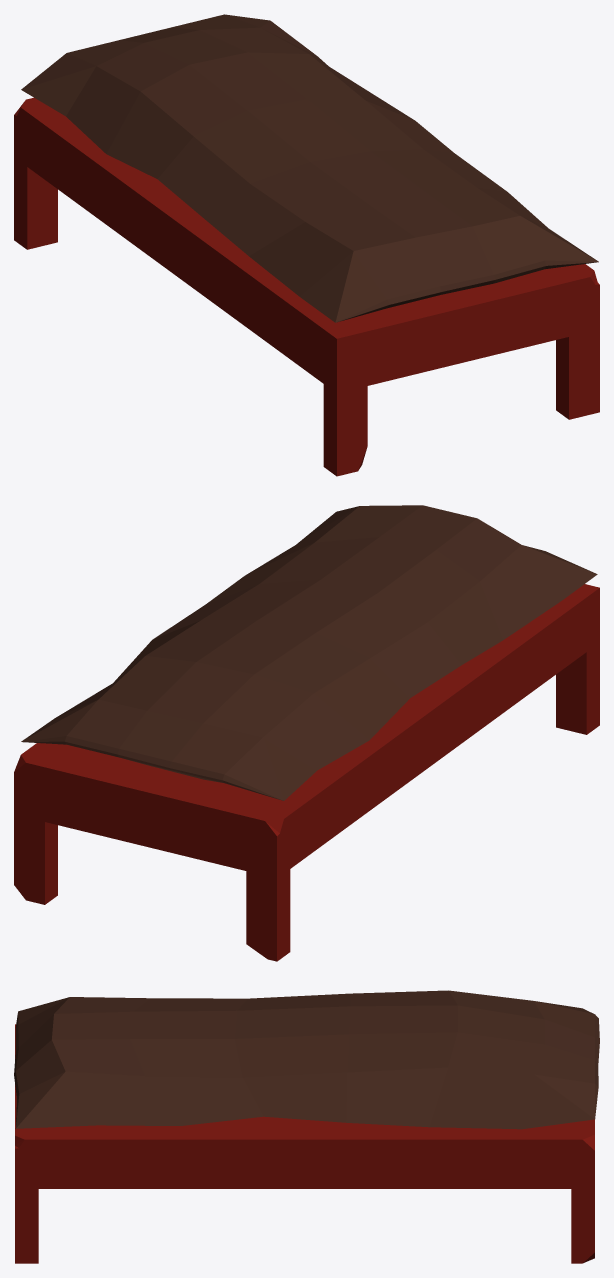
The model's file is Lit_Paillasse.FBX.
3 views of the same model, one above another, from view 1: azimuth 30°, elevation 25°; view 2: azimuth 150°, elevation 25°; view 3: azimuth 270°, elevation 25° (orthographic). The views are drawn at different scales.
Visible parts, largest first — view 1: Paillasse, Sommier_Bois; view 2: Paillasse, Sommier_Bois; view 3: Paillasse, Sommier_Bois.
Part boxes in pixels (x1,y1,x2,y2): Paillasse: (21, 14, 598, 322); Sommier_Bois: (14, 97, 599, 476); Paillasse: (21, 505, 597, 800); Sommier_Bois: (14, 584, 599, 961); Paillasse: (14, 990, 599, 1129); Sommier_Bois: (15, 1024, 594, 1263).
Bounding box in the file's own units: 80 × 60.17 × 172.
1 material, 1 textured.
